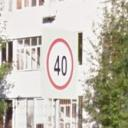speed_limit_40: (45, 35, 77, 91)
